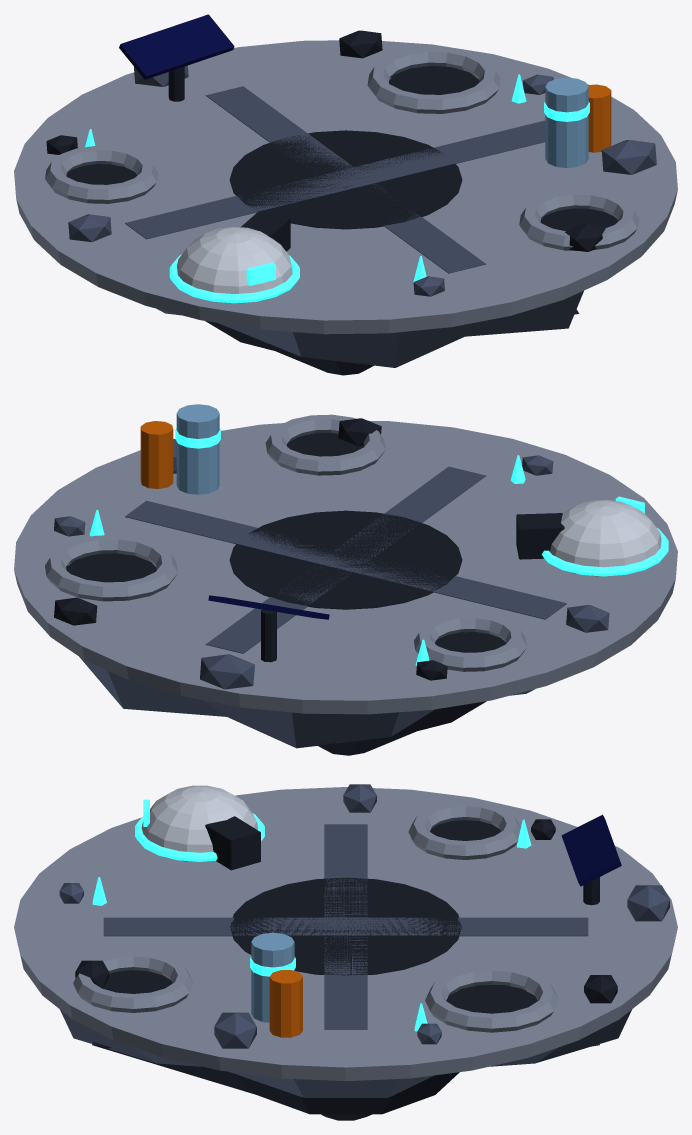
Rendered from lunar_island.glb.
3 views of the same model, one above another, from view 1: azimuth 30°, elevation 25°; view 2: azimuth 150°, elevation 25°; view 3: azimuth 270°, elevation 25° (orthographic).
Visible parts, largest first — view 1: LunarIslandTerrain; view 2: LunarIslandTerrain; view 3: LunarIslandTerrain.
Boxes of the visible parts, x1=… form: LunarIslandTerrain: x1=14, y1=14, x2=677, y2=375; LunarIslandTerrain: x1=14, y1=404, x2=677, y2=755; LunarIslandTerrain: x1=14, y1=784, x2=677, y2=1120.
Size of the model in its own units: 2 by 0.86 by 2.
